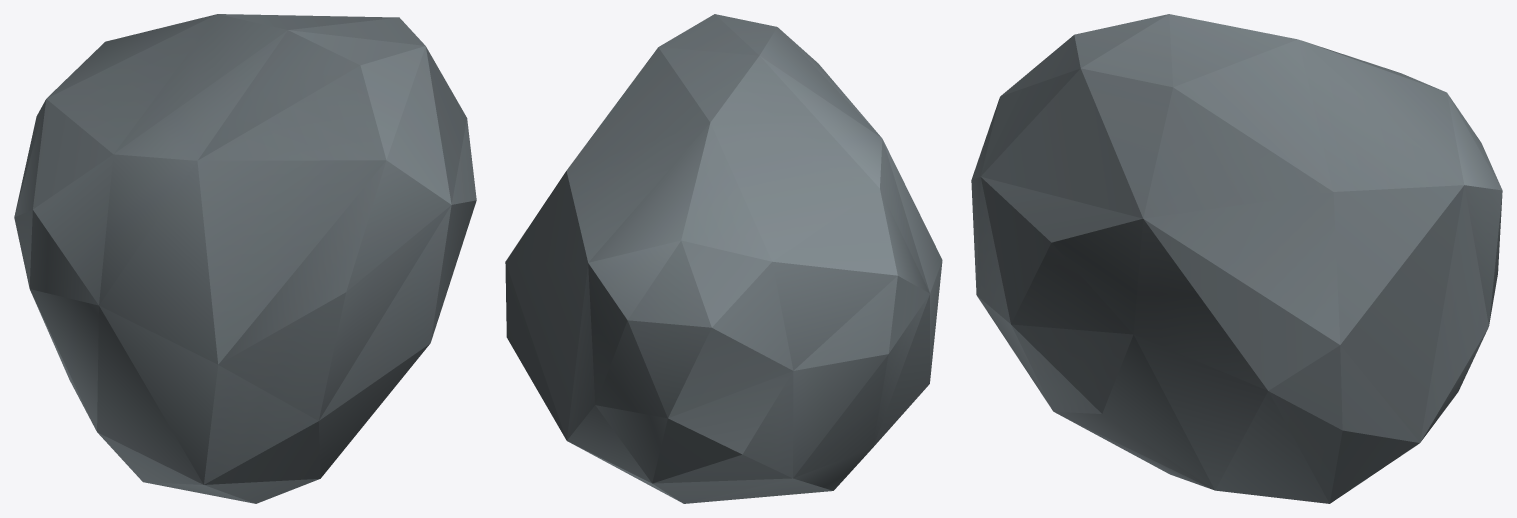
Rendered from kf_rock_3_f.fbx.
The picture shows the model from 3 angles, left to right: view 1: azimuth 30°, elevation 25°; view 2: azimuth 150°, elevation 25°; view 3: azimuth 270°, elevation 25°; orthographic projection. The views are drawn at different scales.
Parts seen in each view (by area): view 1: kf_rock_3_f; view 2: kf_rock_3_f; view 3: kf_rock_3_f.
Part boxes in pixels (x1=…): kf_rock_3_f: x1=14, y1=14, x2=476, y2=503; kf_rock_3_f: x1=505, y1=14, x2=942, y2=503; kf_rock_3_f: x1=971, y1=14, x2=1502, y2=503.
Bounding box in the file's own units: 2.61 × 2.82 × 2.85.
